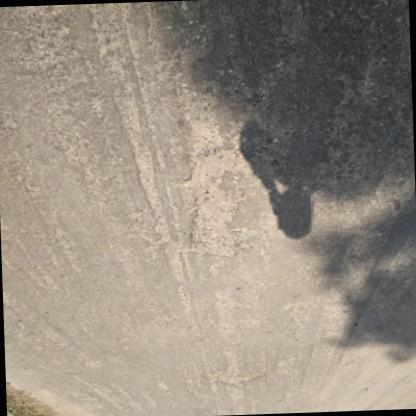pothole: (175, 114, 247, 259), (210, 349, 256, 391)
